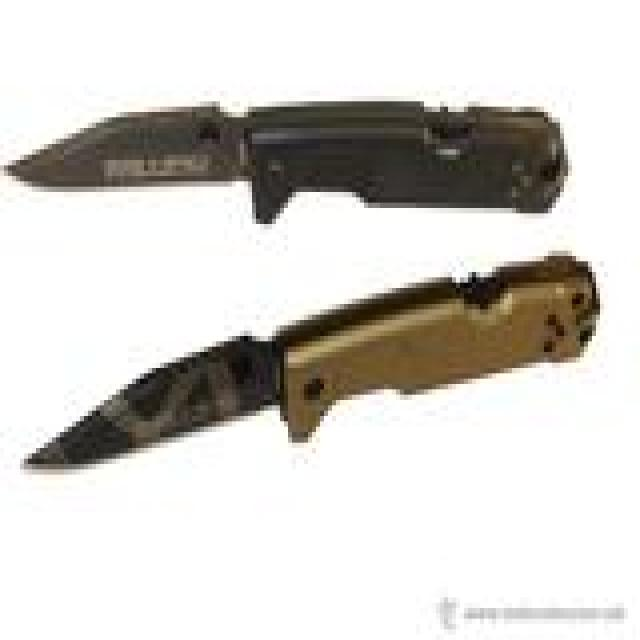Knife: (16, 339, 626, 481), (4, 101, 640, 224)
